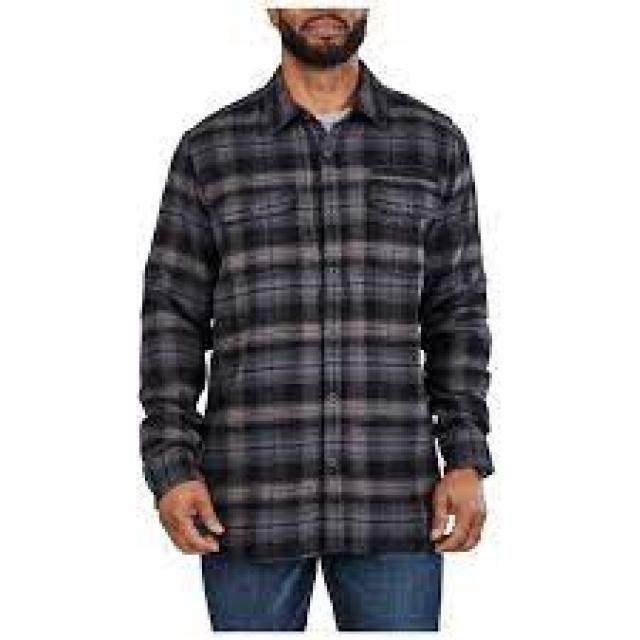plaid: (101, 70, 539, 568)
